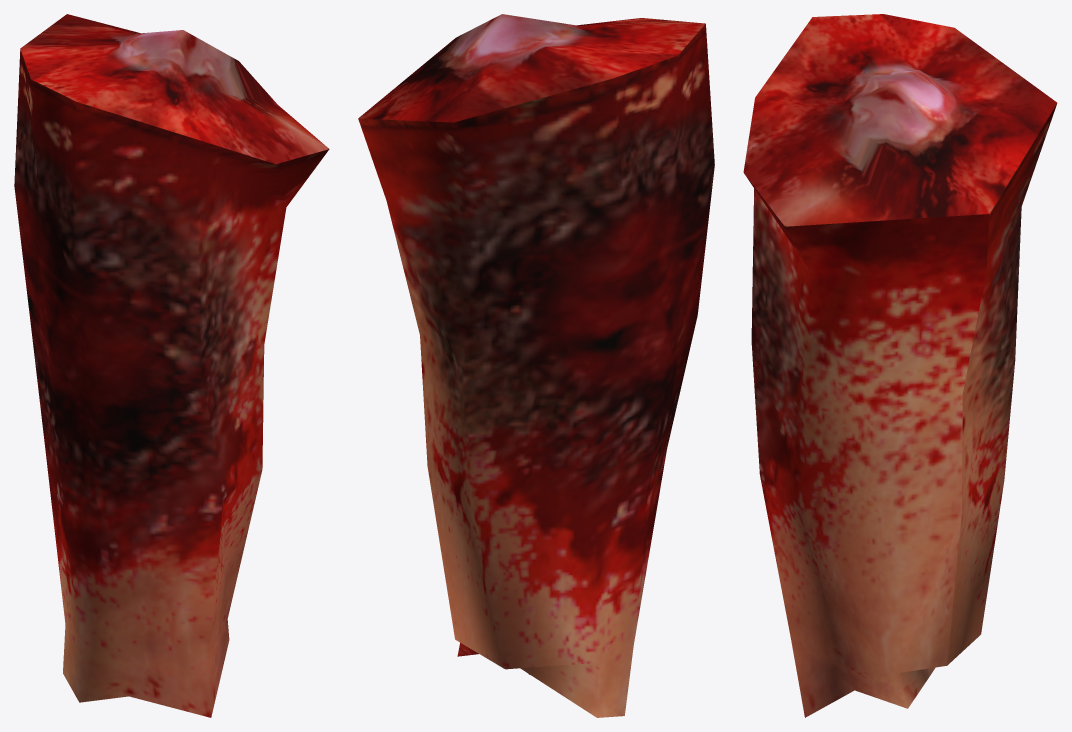
The model's file is male_rt_upleg.fbx.
3 renders of one model, left to right at view 1: azimuth 30°, elevation 25°; view 2: azimuth 150°, elevation 25°; view 3: azimuth 270°, elevation 25°, orthographic. The views are drawn at different scales.
Parts seen in each view (by area): view 1: rt_upleg_gib; view 2: rt_upleg_gib; view 3: rt_upleg_gib.
Boxes of the visible parts, x1,y1,x2,y2 form: rt_upleg_gib: [14, 14, 329, 717]; rt_upleg_gib: [358, 14, 714, 717]; rt_upleg_gib: [743, 14, 1057, 717].
Bounding box in the file's own units: 0.2104 × 0.5248 × 0.2327.
